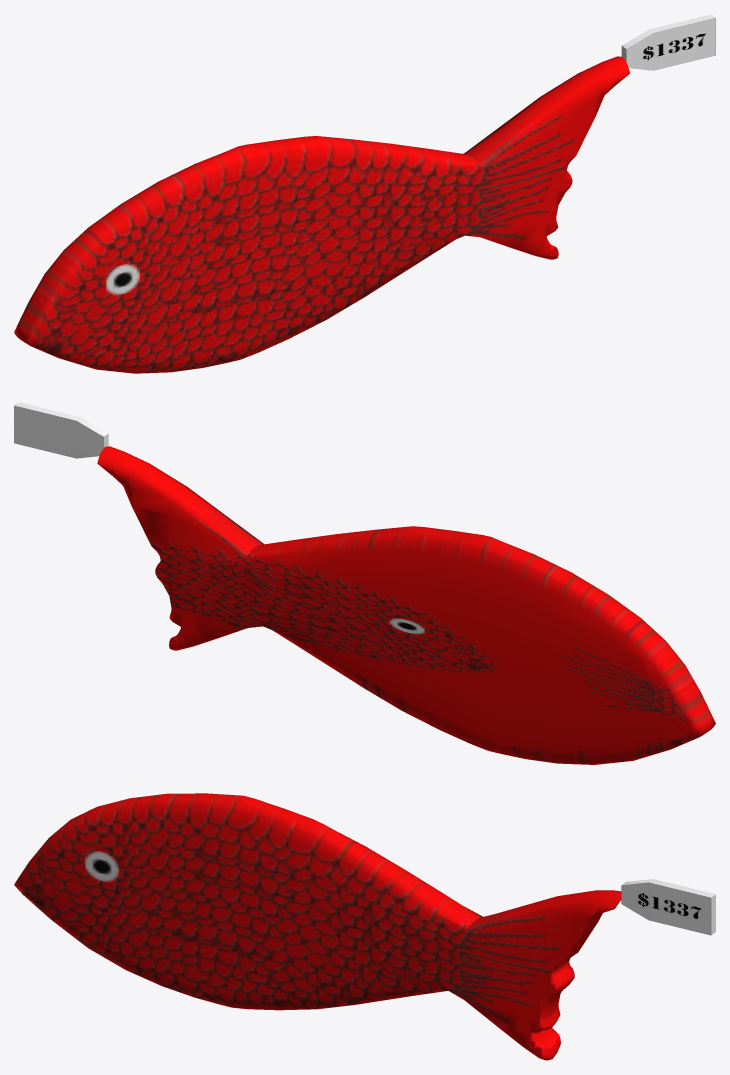
Rendered from FishAnimated2.fbx.
3 views of the same model, one above another, from view 1: azimuth 30°, elevation 25°; view 2: azimuth 150°, elevation 25°; view 3: azimuth 330°, elevation 25° (orthographic).
Parts seen in each view (by area): view 1: FishBody, FishPriceTag; view 2: FishBody, FishPriceTag; view 3: FishBody, FishPriceTag.
Boxes of the visible parts, bbox=[...] form: FishBody: bbox=[14, 56, 629, 373]; FishPriceTag: bbox=[621, 14, 715, 70]; FishBody: bbox=[97, 446, 715, 764]; FishPriceTag: bbox=[14, 402, 108, 458]; FishBody: bbox=[14, 793, 621, 1060]; FishPriceTag: bbox=[621, 879, 715, 935].
Bounding box in the file's own units: 11.38 × 3.57 × 0.643.
